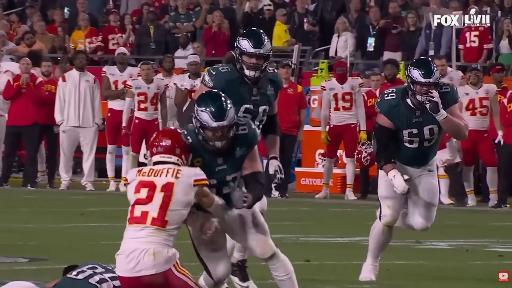Helmet: (193, 90, 236, 149), (235, 28, 272, 80), (148, 128, 191, 166), (406, 58, 440, 103), (356, 142, 375, 168), (317, 151, 326, 167)
Jersey: (120, 165, 208, 250), (183, 118, 259, 206), (376, 86, 442, 167), (202, 65, 282, 130), (321, 78, 362, 125), (125, 78, 169, 119), (458, 84, 497, 130), (53, 263, 121, 287), (156, 74, 181, 121), (177, 73, 203, 111), (102, 66, 139, 90), (176, 73, 203, 99), (440, 68, 465, 86)
Player: (359, 58, 467, 281), (183, 91, 297, 287), (116, 128, 227, 287), (194, 29, 283, 181), (458, 64, 502, 206), (316, 78, 367, 199), (102, 48, 139, 191), (122, 62, 168, 170), (47, 263, 121, 287), (156, 55, 180, 127), (436, 133, 460, 204), (175, 54, 203, 113), (437, 134, 460, 204), (434, 55, 465, 86)
